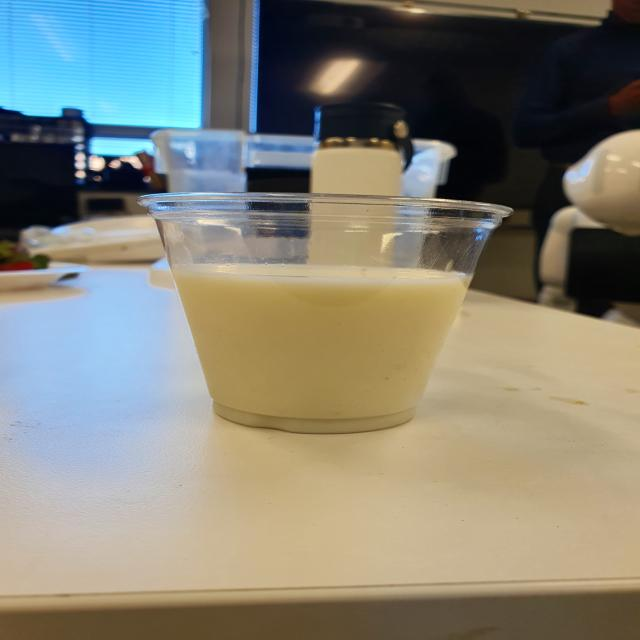Milk: (132, 167, 520, 476)
